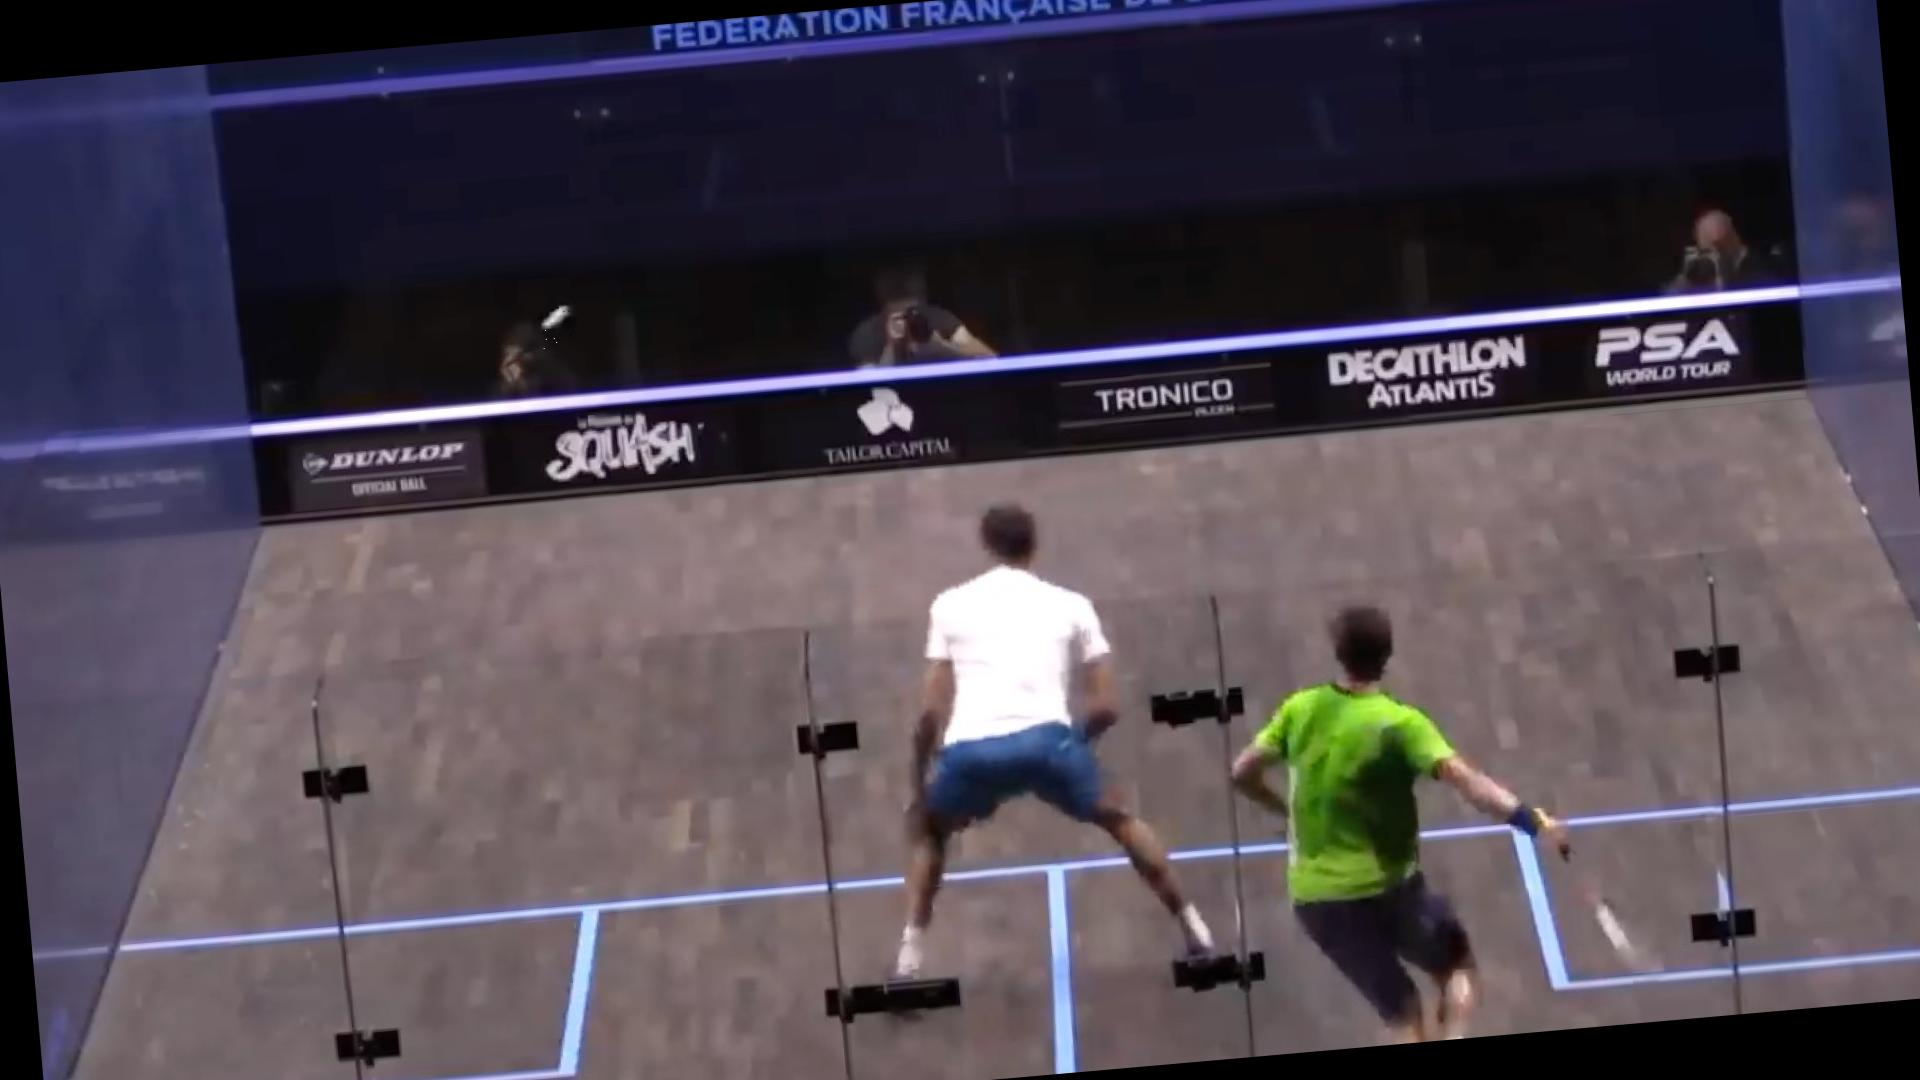Squash-Ball: (537, 291, 583, 348)
